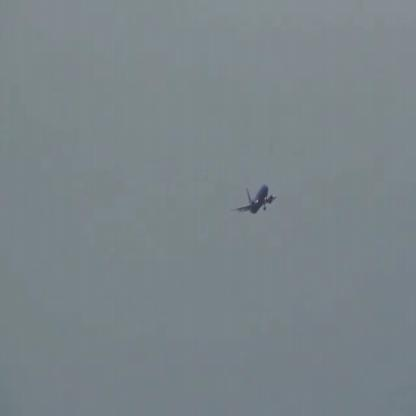CIV_Plane: (233, 185, 278, 214)
